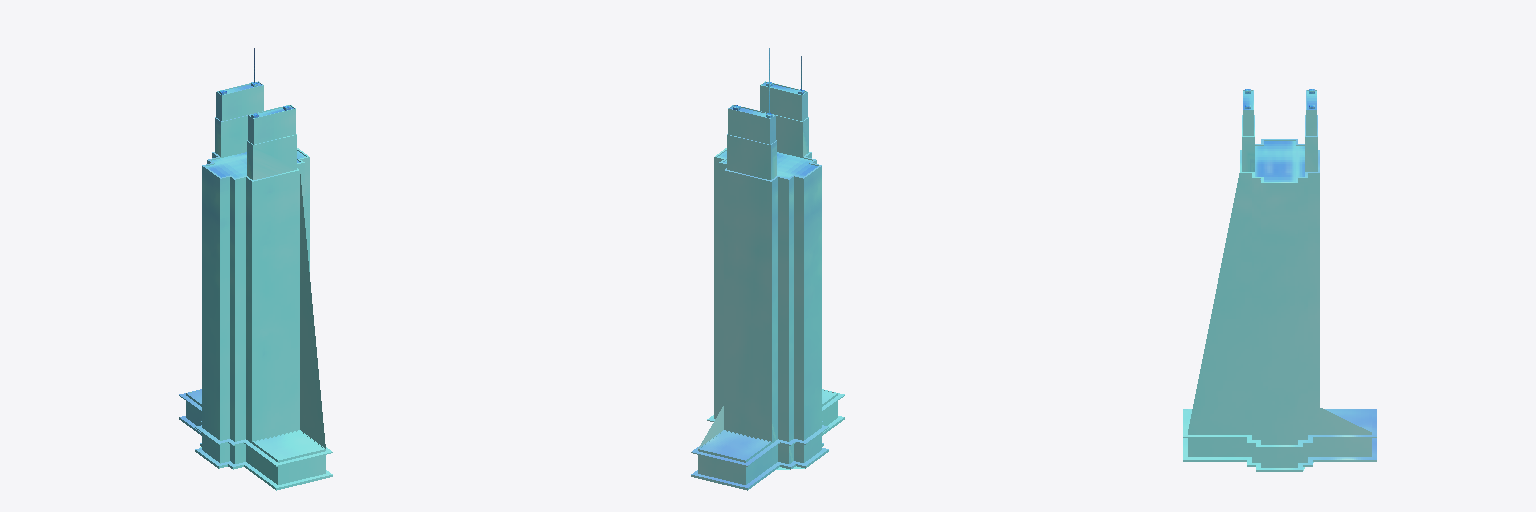
The picture shows the model from 3 angles: view 1: azimuth 30°, elevation 25°; view 2: azimuth 150°, elevation 25°; view 3: azimuth 270°, elevation 25°; orthographic projection.
Parts seen in each view (by area): view 1: 立方体_8; view 2: 立方体_8; view 3: 立方体_8.
Boxes of the visible parts, box(x1,y1,x2,y2) form: 立方体_8: box(179, 48, 332, 490); 立方体_8: box(691, 48, 844, 490); 立方体_8: box(1183, 89, 1376, 471).
Size of the model in its own units: 28.99 by 108 by 49.5.
4 materials, 2 textured.